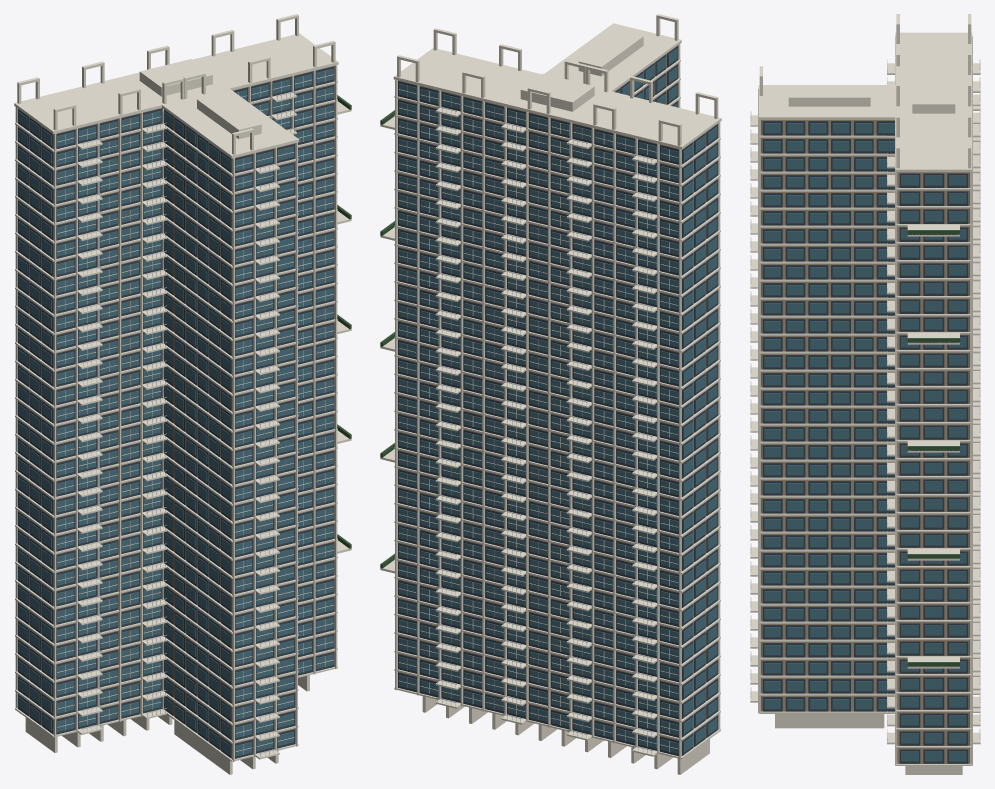
Rendered from tower-a.glb.
The picture shows the model from 3 angles, left to right: view 1: azimuth 30°, elevation 25°; view 2: azimuth 150°, elevation 25°; view 3: azimuth 270°, elevation 25°; orthographic projection. The views are drawn at different scales.
Parts seen in each view (by area): view 1: glass, ivory, dark, sand, rail; view 2: ivory, glass, dark, sand, rail; view 3: ivory, glass, dark, sand, rail, leaf.
Boxes of the visible parts, x1,y1,x2,y2 form: glass: [18, 69, 333, 756]; ivory: [14, 14, 351, 774]; dark: [18, 66, 334, 758]; sand: [17, 65, 334, 758]; rail: [81, 91, 296, 756]; ivory: [380, 14, 721, 774]; glass: [399, 48, 717, 753]; dark: [398, 46, 717, 756]; sand: [398, 54, 717, 755]; rail: [436, 106, 653, 754]; ivory: [750, 14, 980, 774]; glass: [764, 123, 966, 761]; dark: [761, 120, 969, 763]; sand: [761, 120, 969, 763]; rail: [750, 59, 980, 741]; leaf: [907, 230, 959, 666].
Size of the model in its own units: 53.2 by 108 by 35.41.
